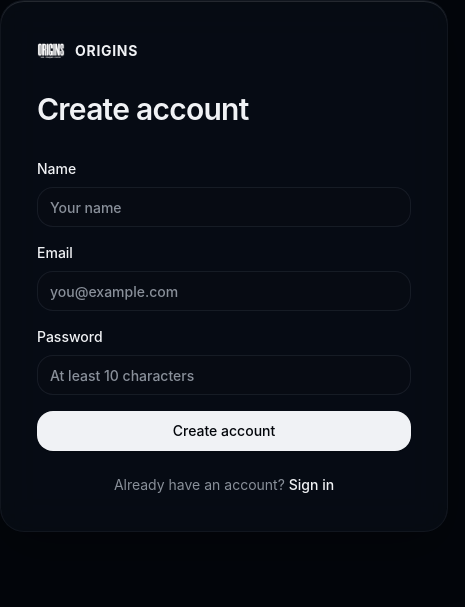
Test: AuthForm Component Interactive Tests › surfaces 'Email already in use.' when API returns duplicate user error
In the field labelled "Name": (224, 207) [37,187,411,227], type "Tejaswin Amara"
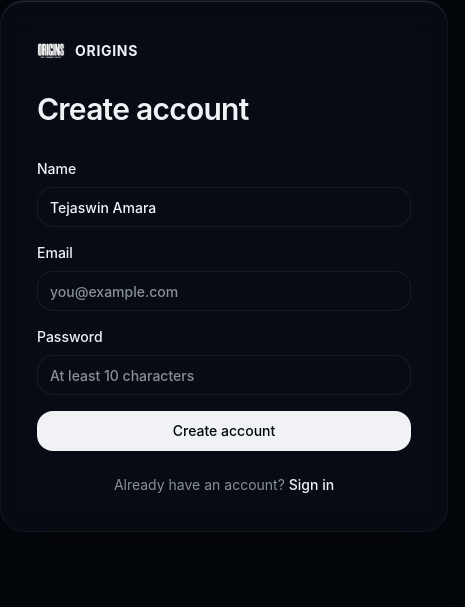
In the field labelled "Email": (224, 291) [37,271,411,311], type "tejaswinamara@gmail.com"
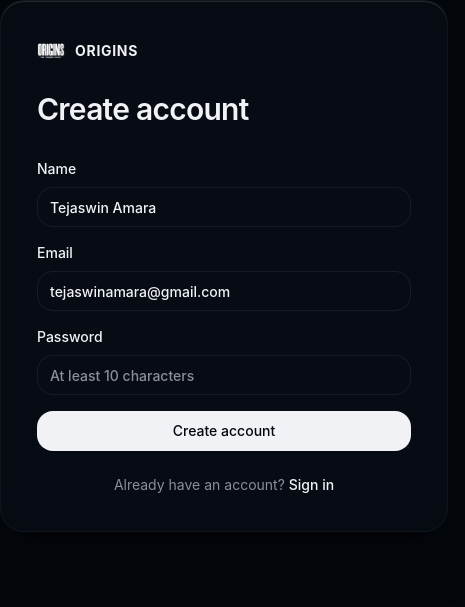
In the password field labelled "Password": (224, 375) [37,355,411,395], type "securePassword123"
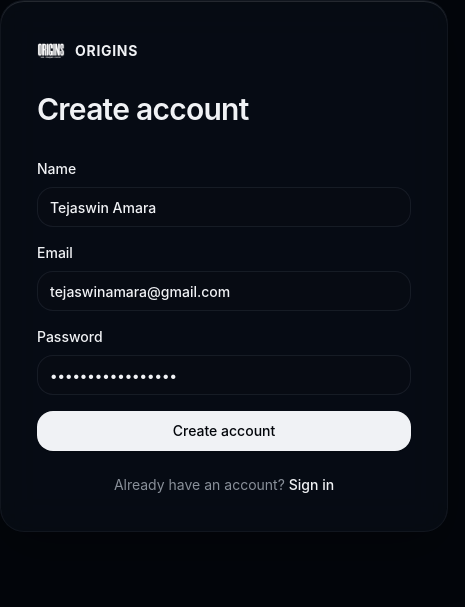
Submit the form from the button "Create account", box [37,411,411,451]
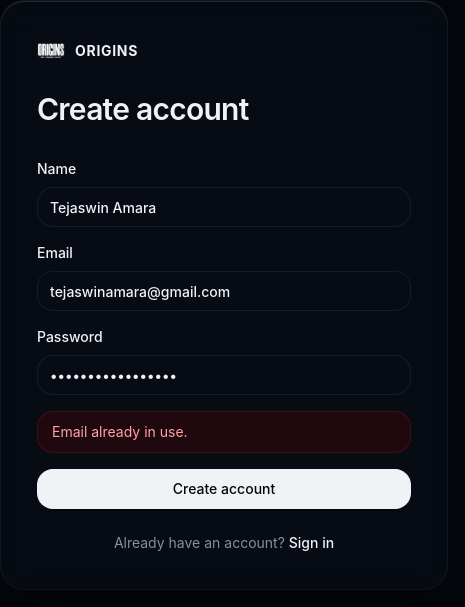
Result: the message reads "Email already in use." at [52,423,188,440]
